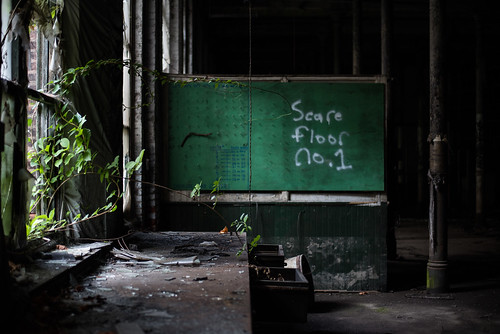graffiti: (289, 95, 362, 189)
vegetation: (24, 62, 146, 232)
window: (1, 1, 78, 263)
